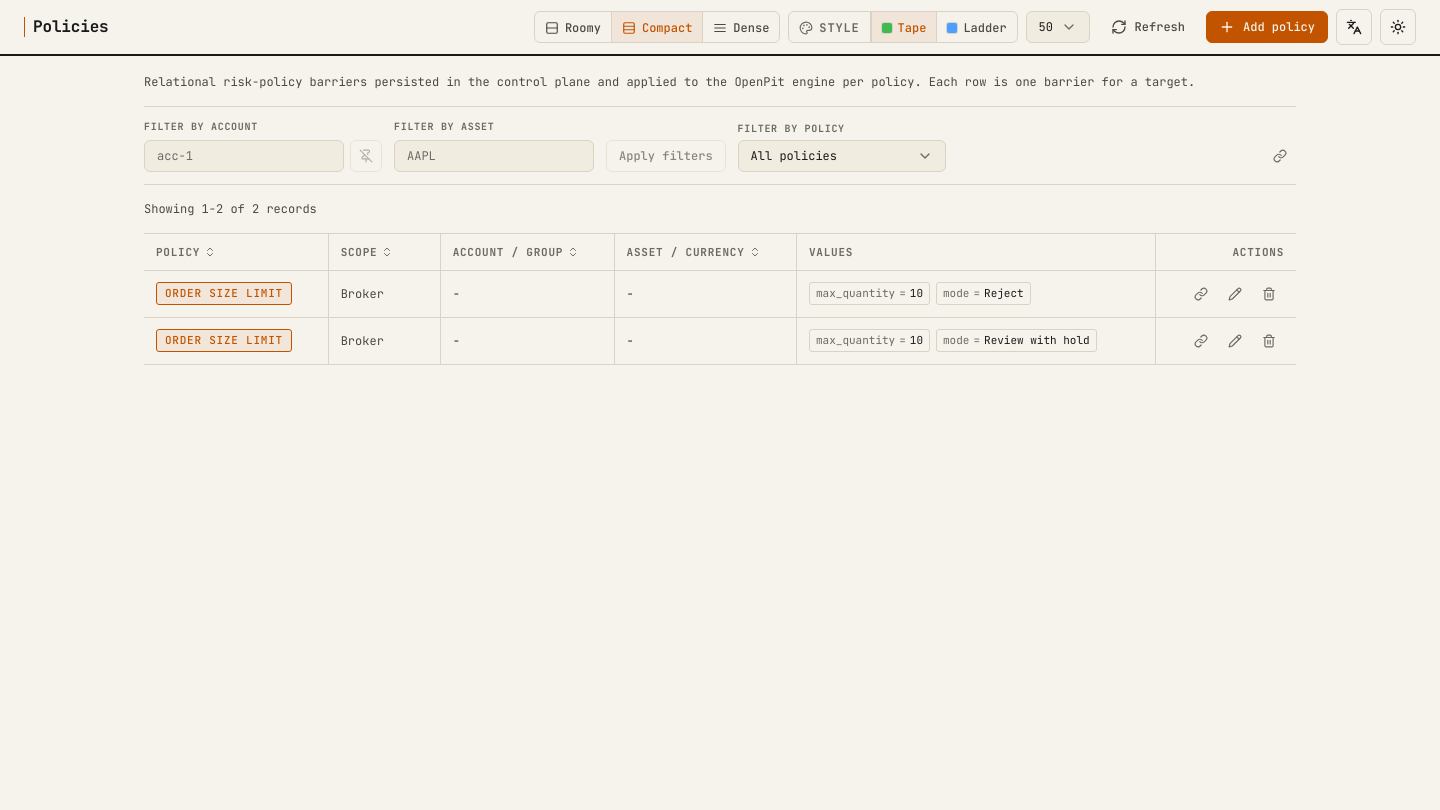
Limits order-size barrier modes › confirms adding review_with_hold only when its existing count is zero (Review with hold, 1)
The image size is (1440, 810).
Click the button "Add policy".
click(1267, 27)  # box [1206,11,1328,43]
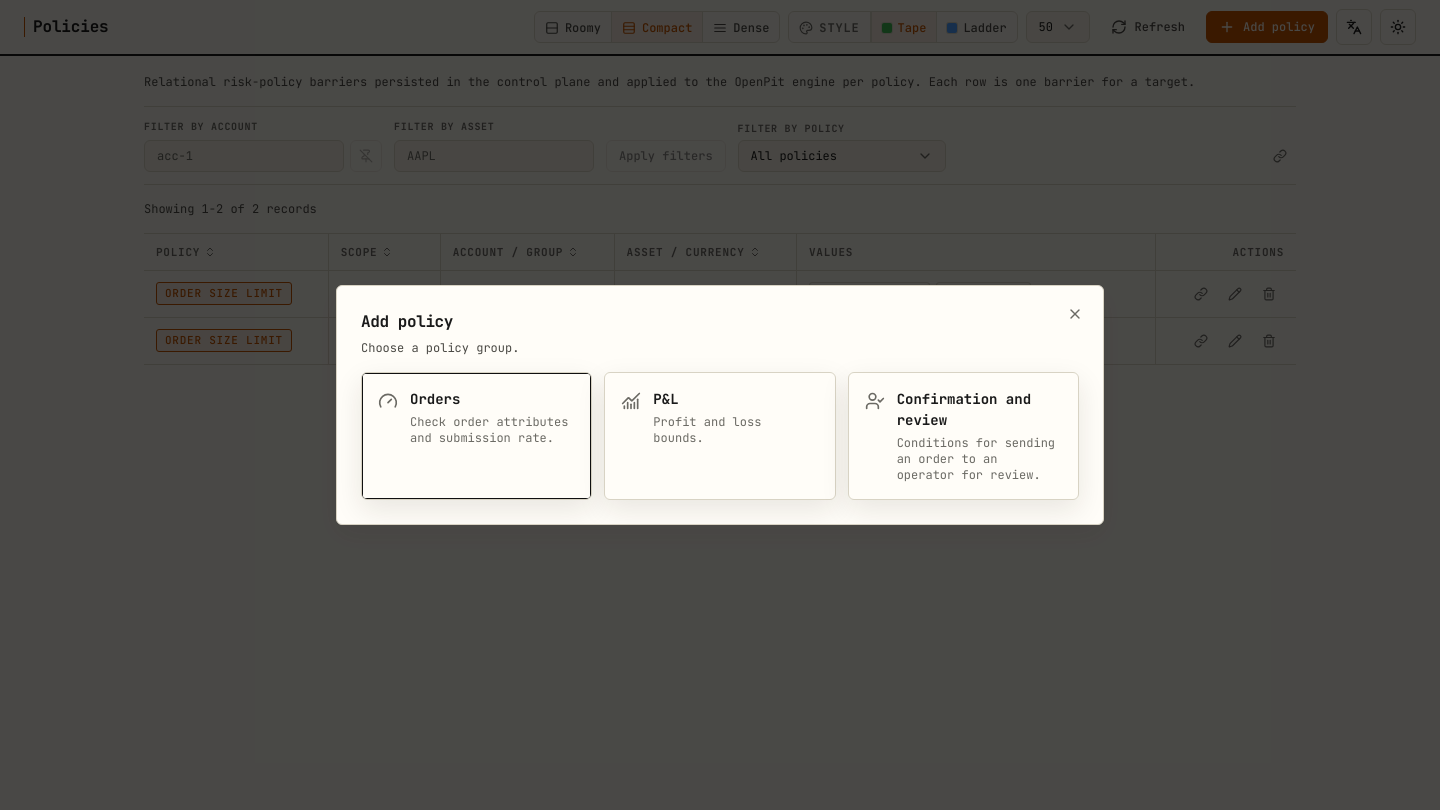
Click the button "Orders Check order attributes and submission rate.".
click(477, 436)  # box [362,373,591,499]
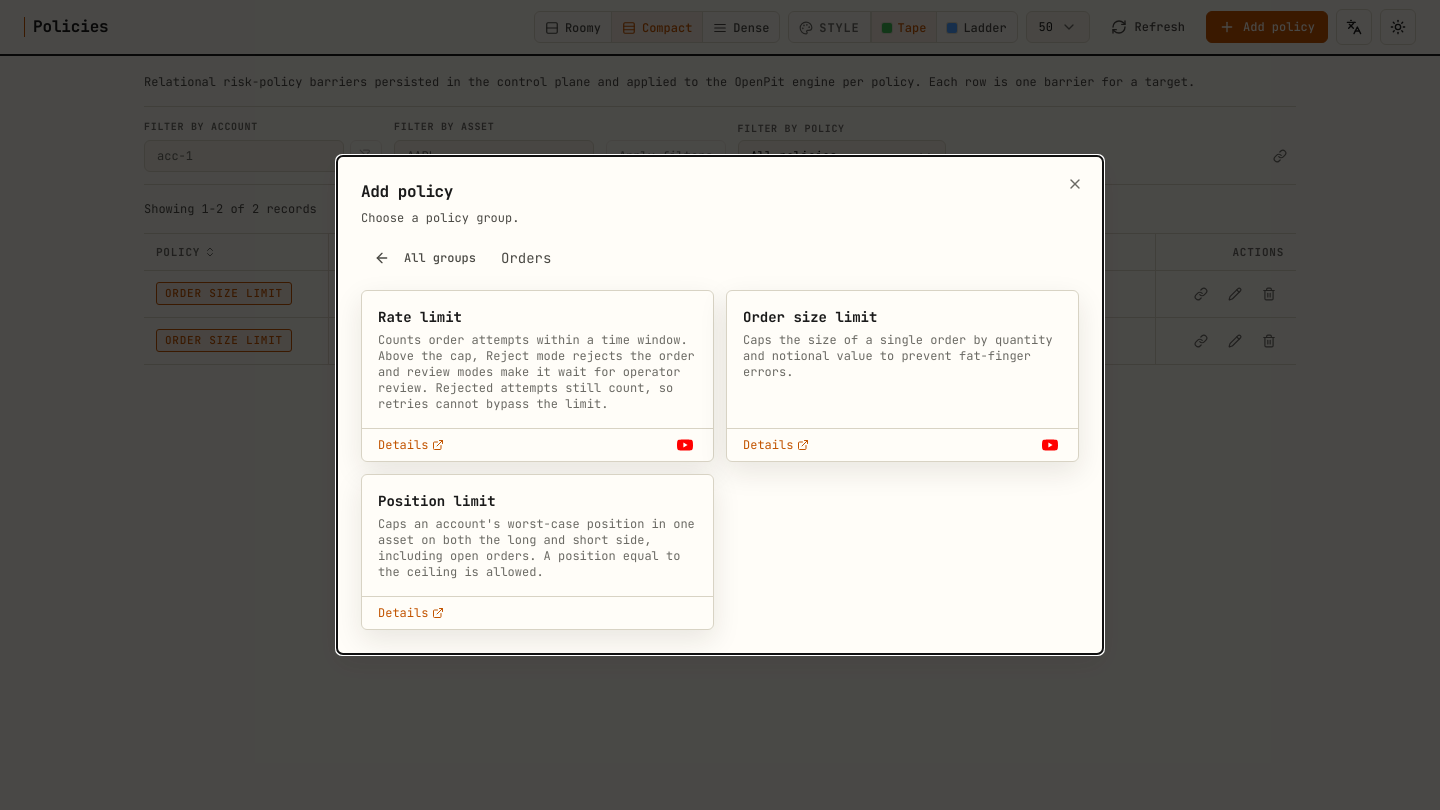
Click the button that starts with "Order size limit".
click(902, 360)  # box [727,291,1078,428]
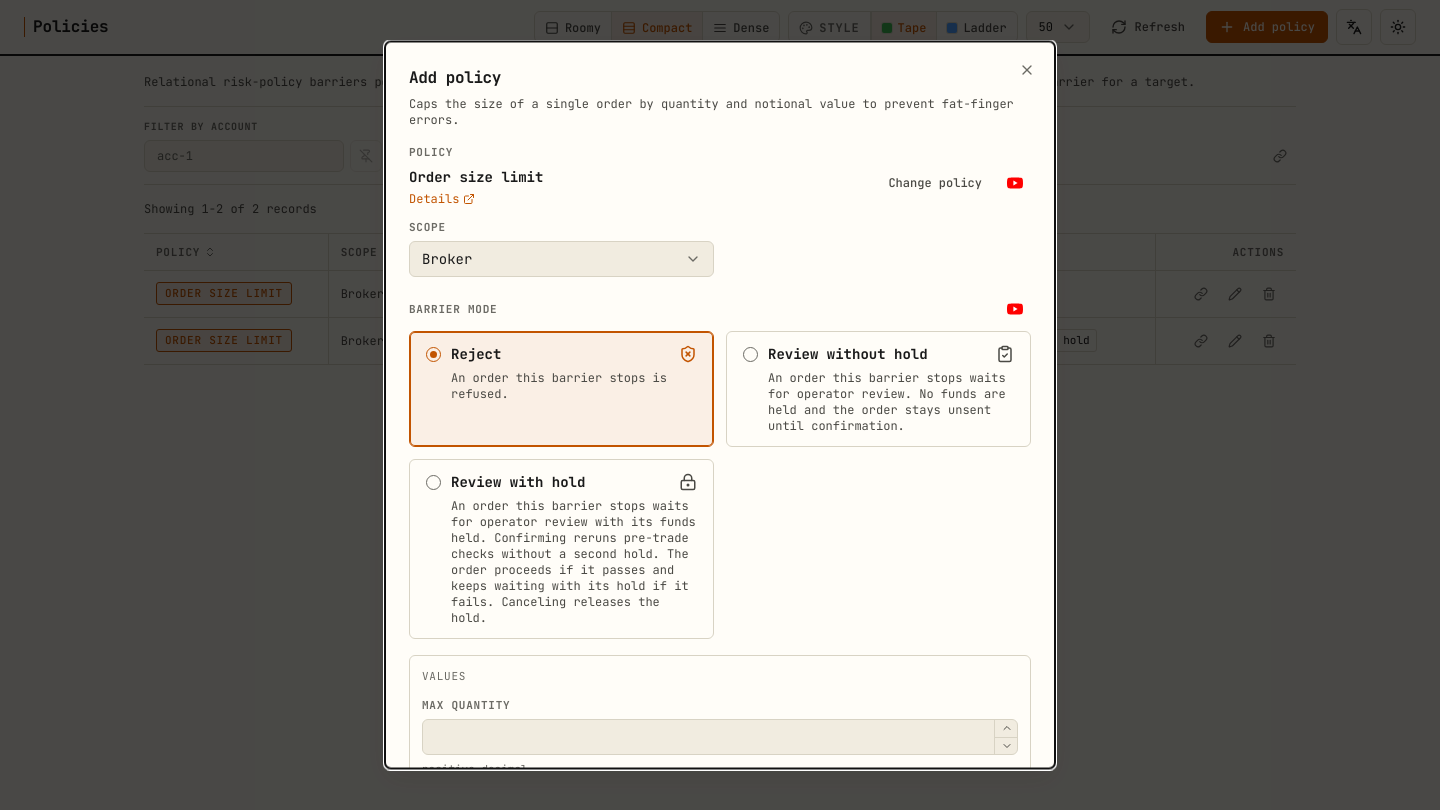
expect the radio button labelled "Reject" is checked: met, box [409,330,714,446]
Click the radio button labelled "Review with hold".
click(562, 548)  # box [409,458,714,638]
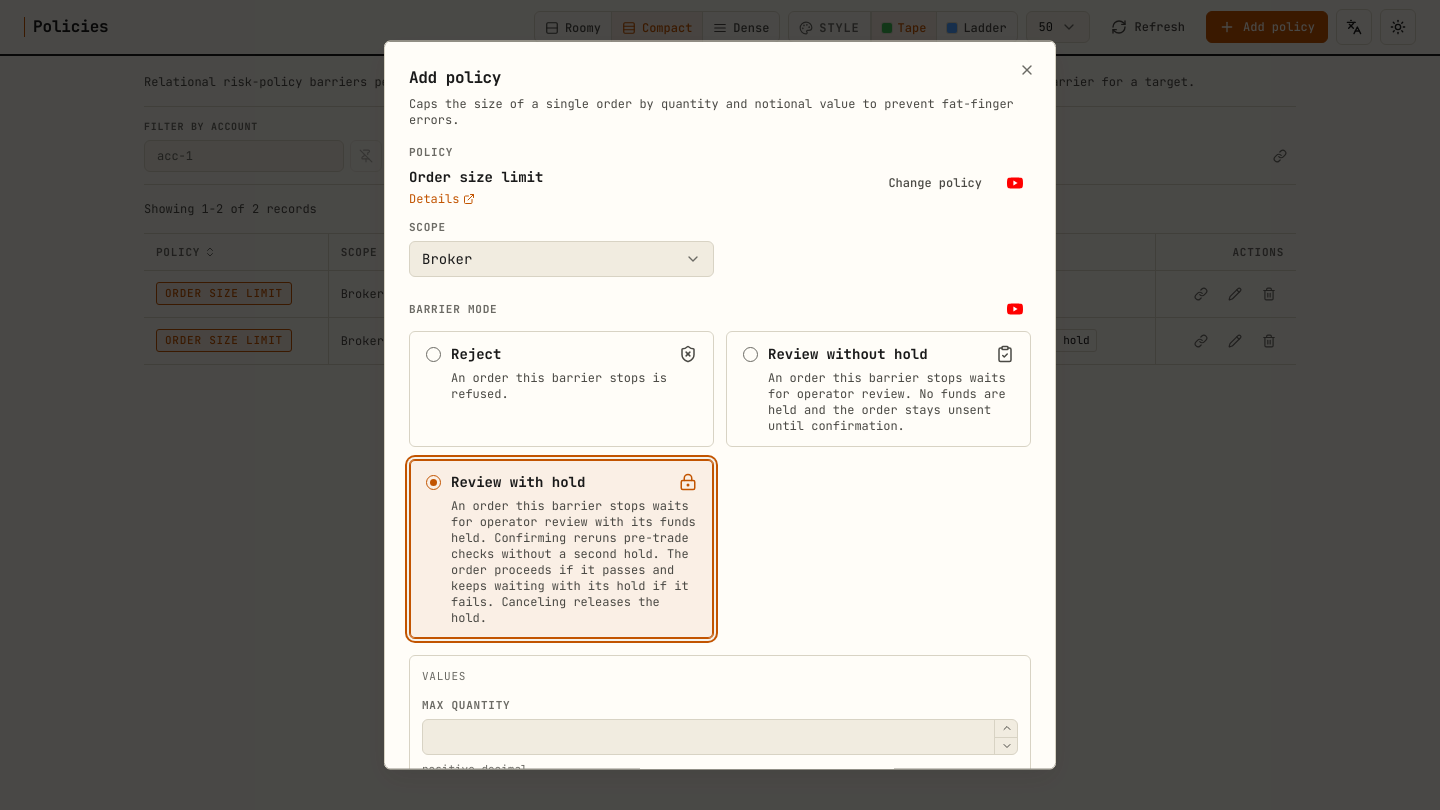
Type "20" into the field labelled "max quantity".
click(720, 736); type("20")  # box [422,718,1018,754]
(page scrolled)
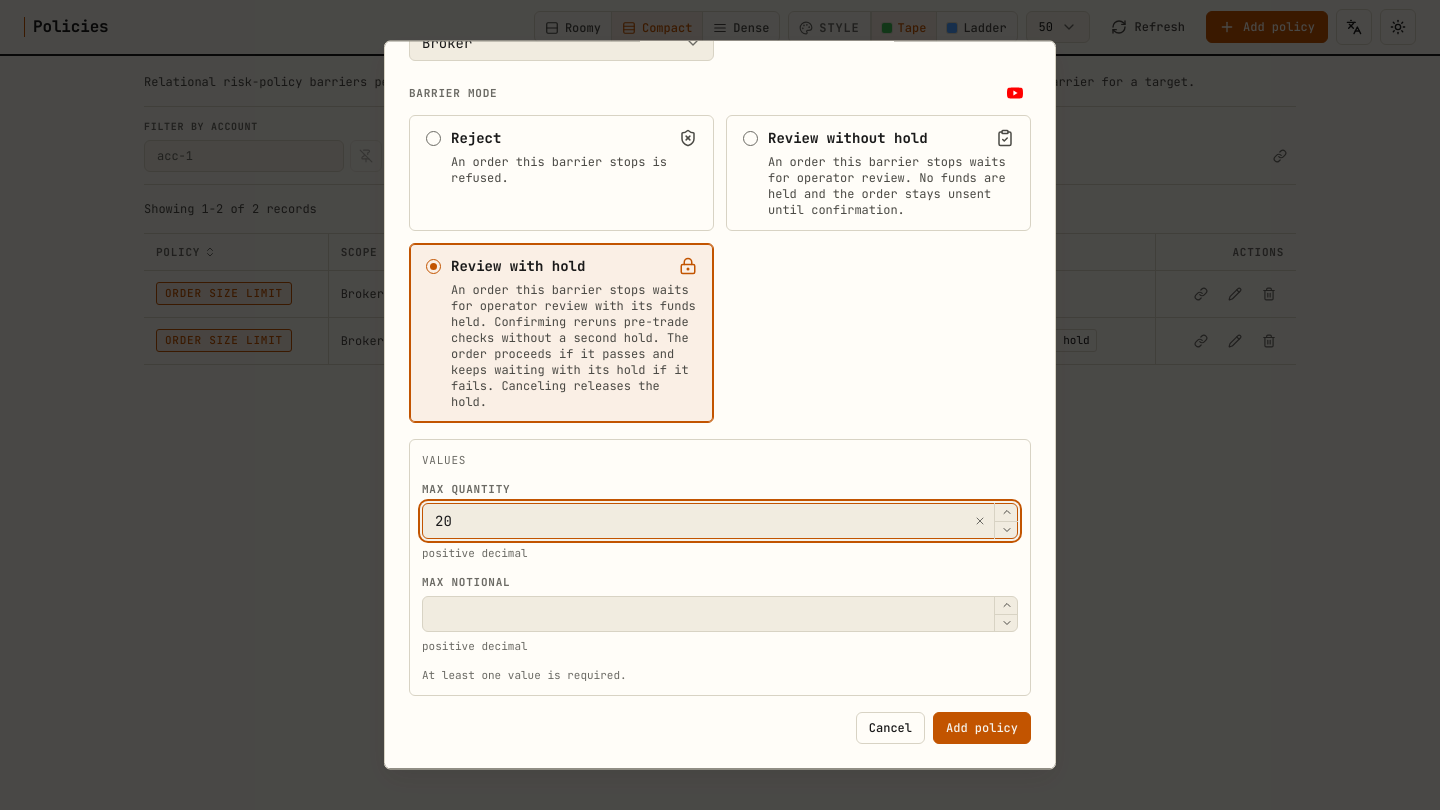
Click the button "Add policy".
click(982, 728)  # box [933,712,1031,744]
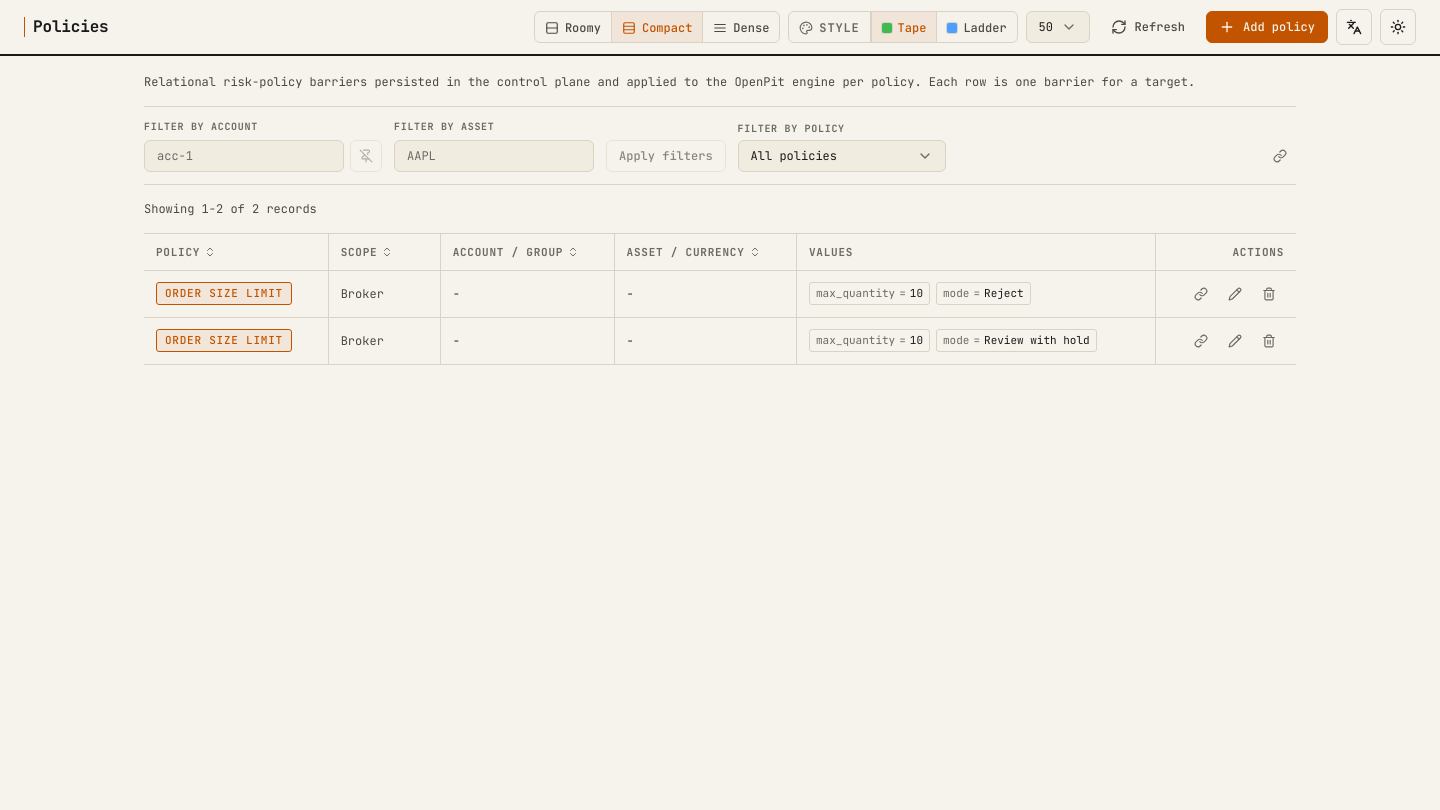
expect the dialog is gone: met
